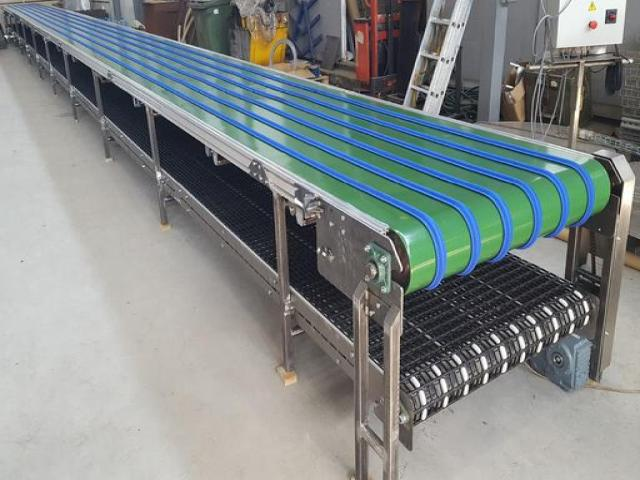conveyor: (0, 1, 615, 300)
